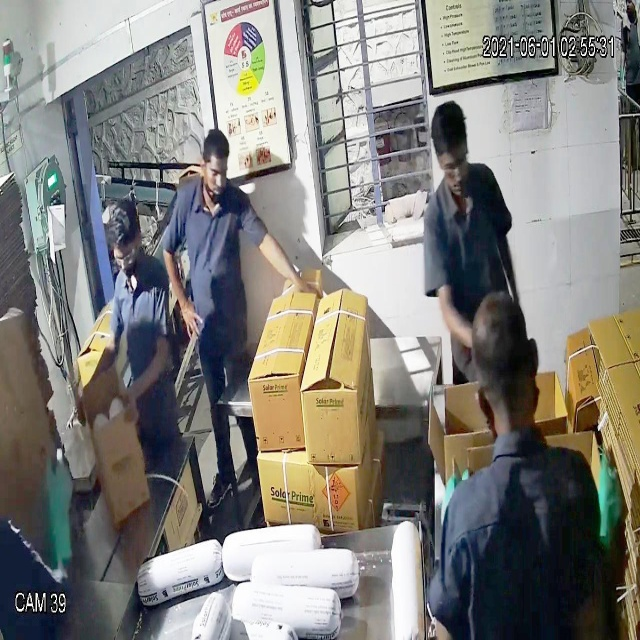Gafas: (108, 238, 146, 274)
